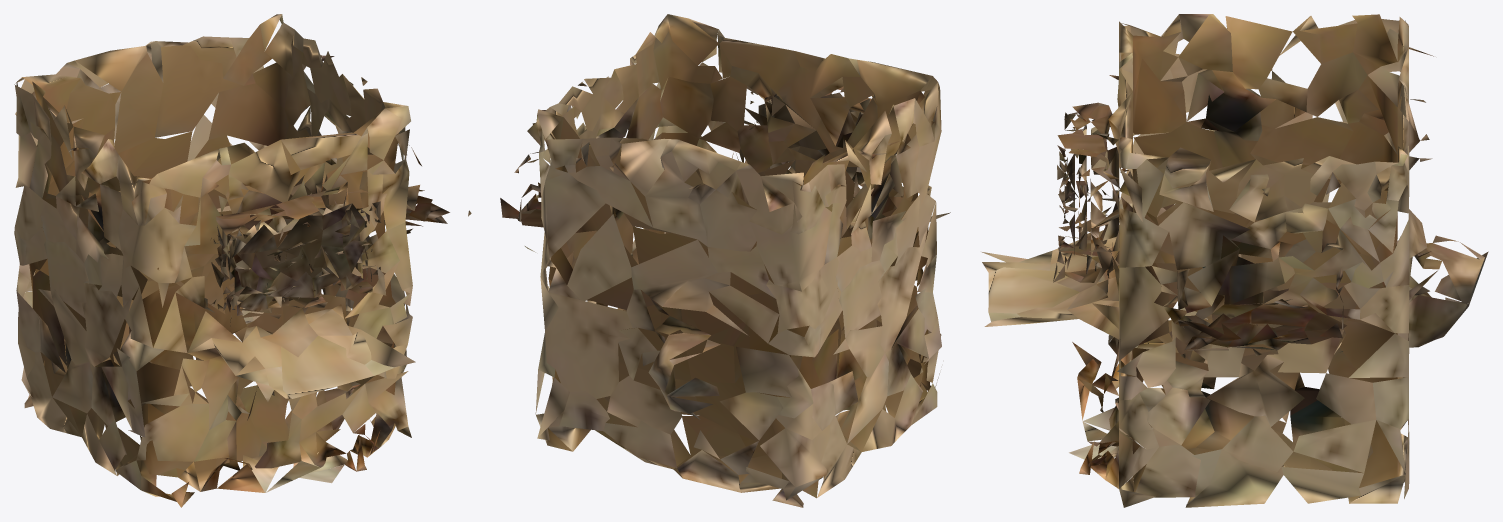
File: Desert_Dwelling_town.glb
3 renders of one model, left to right at view 1: azimuth 30°, elevation 25°; view 2: azimuth 150°, elevation 25°; view 3: azimuth 270°, elevation 25°, orthographic. The views are drawn at different scales.
Parts seen in each view (by area): view 1: Desert_Dwelling; view 2: Desert_Dwelling; view 3: Desert_Dwelling.
Boxes of the visible parts, x1,y1,x2,y2 form: Desert_Dwelling: (14,14,471,507); Desert_Dwelling: (500,14,950,507); Desert_Dwelling: (982,14,1488,507).
Size of the model in its own units: 1.62 by 1.38 by 1.78.
Materials: 1 (1 with a texture image).
